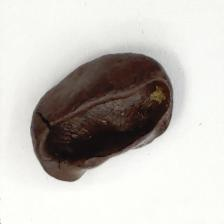NG: (117, 77, 173, 154), (79, 94, 115, 180), (44, 112, 79, 179)
